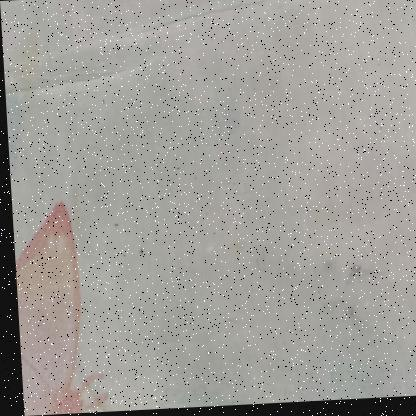spot: (12, 15, 44, 106), (208, 91, 252, 134), (230, 236, 271, 278), (332, 265, 389, 291), (310, 257, 339, 283), (70, 185, 79, 242), (339, 303, 358, 320), (375, 127, 383, 135)
